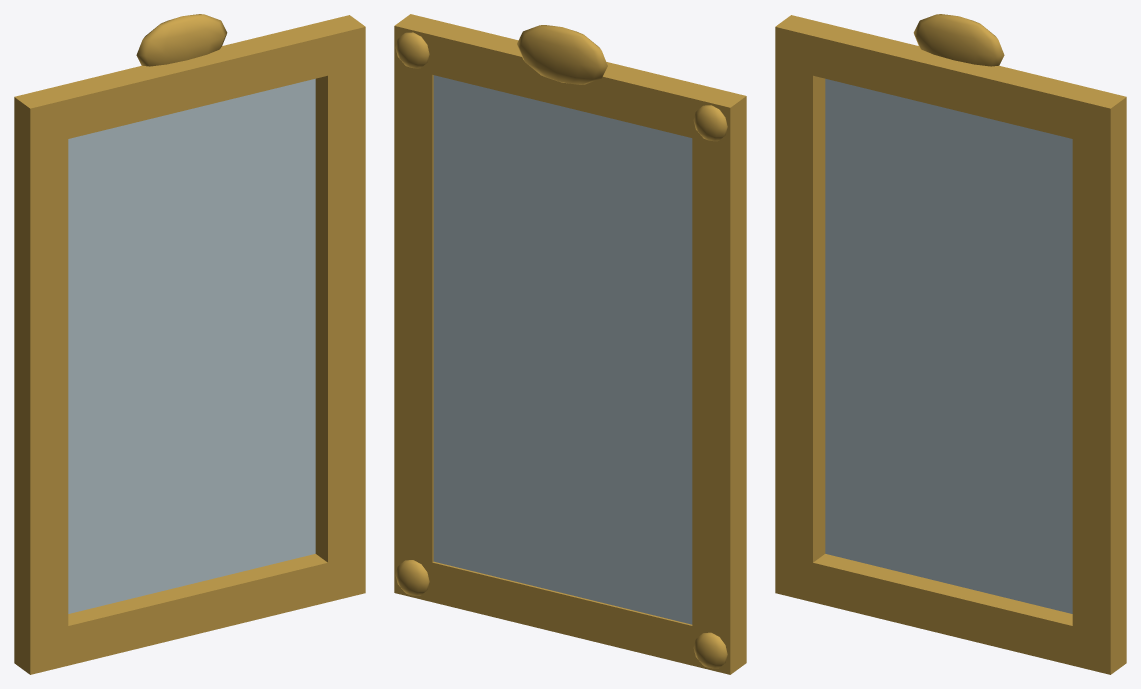
Rendered from SM_ENV_MolduraM.fbx.
The picture shows the model from 3 angles, left to right: view 1: azimuth 30°, elevation 25°; view 2: azimuth 150°, elevation 25°; view 3: azimuth 330°, elevation 25°; orthographic projection.
Parts seen in each view (by area): view 1: SM_ENV_MolduraM; view 2: SM_ENV_MolduraM; view 3: SM_ENV_MolduraM.
Part boxes in pixels (bbox=[...]): SM_ENV_MolduraM: bbox=[14, 14, 365, 674]; SM_ENV_MolduraM: bbox=[394, 14, 746, 674]; SM_ENV_MolduraM: bbox=[775, 14, 1126, 674].
Bounding box in the file's own units: 0.744 × 1.28 × 0.0872.
